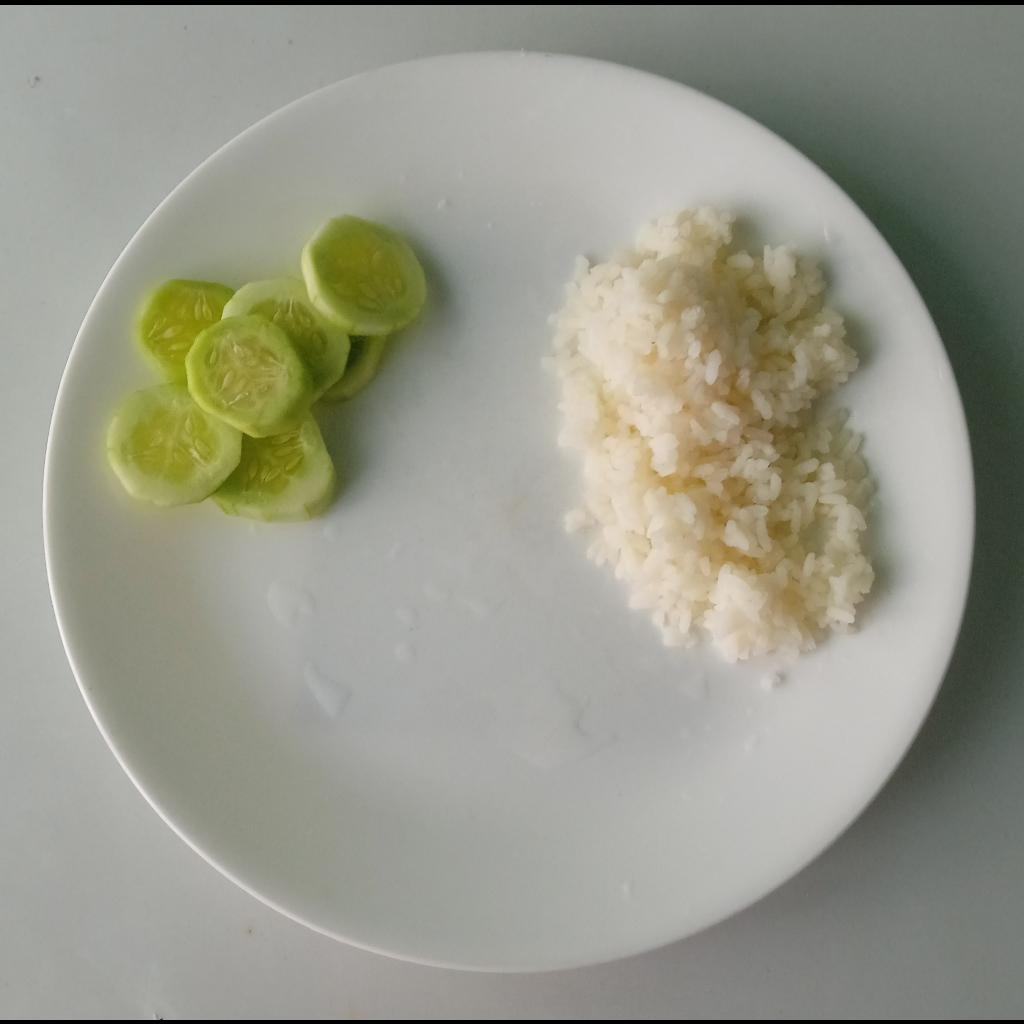cucumber: (104, 211, 429, 524)
rice: (544, 200, 879, 686)
